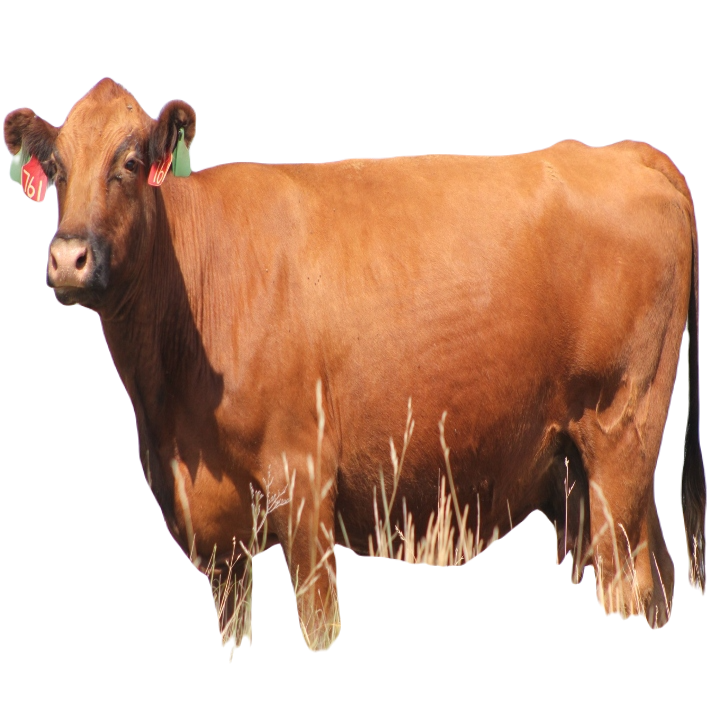Cow: (2, 75, 719, 647)
